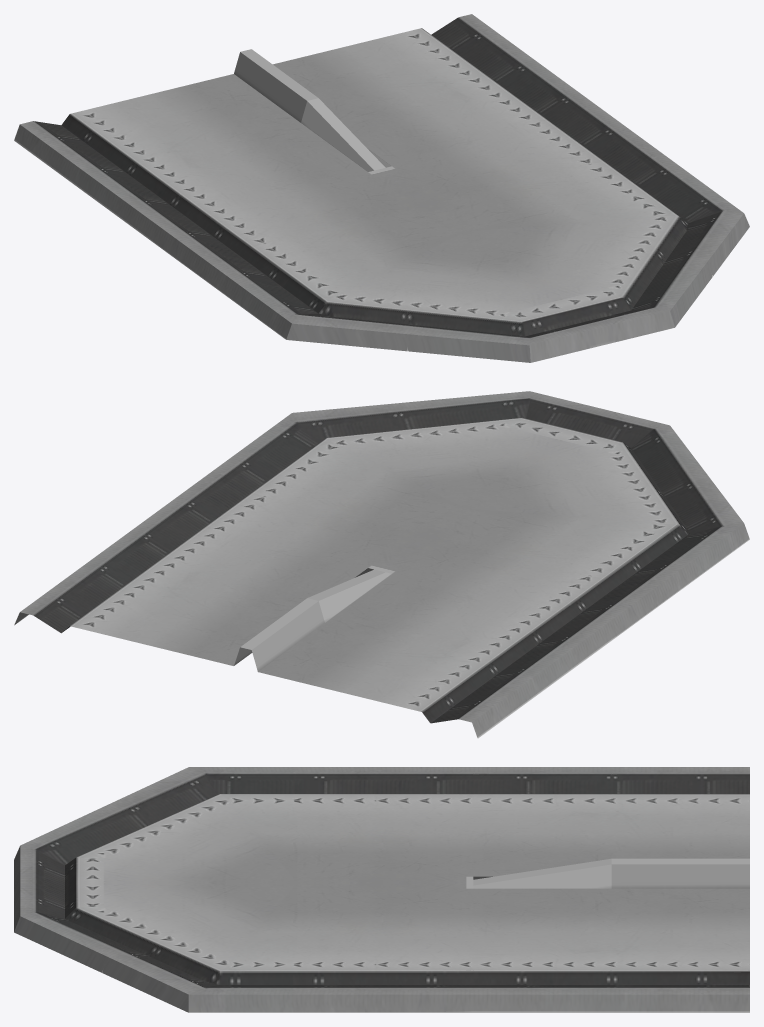
File: road_U.glb
3 views of the same model, one above another, from view 1: azimuth 30°, elevation 25°; view 2: azimuth 150°, elevation 25°; view 3: azimuth 270°, elevation 25° (orthographic). The views are drawn at different scales.
Parts seen in each view (by area): view 1: Plane.003; view 2: Plane.003; view 3: Plane.003.
Boxes of the visible parts, <box> form: Plane.003: <box>14,14,749,362</box>; Plane.003: <box>14,391,749,738</box>; Plane.003: <box>14,767,749,1012</box>.
Bounding box in the file's own units: 15 × 1.04 × 20.
Materials: 1 (1 with a texture image).
